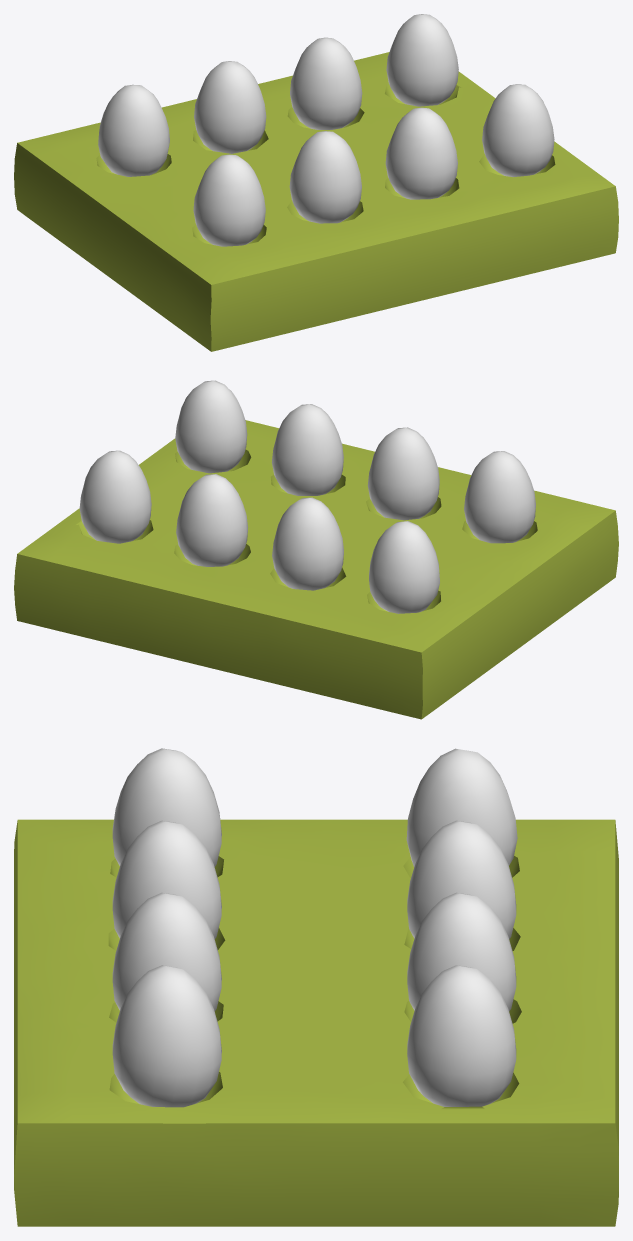
Rendered from Eggs.fbx.
3 renders of one model, top to bottom at view 1: azimuth 30°, elevation 25°; view 2: azimuth 150°, elevation 25°; view 3: azimuth 270°, elevation 25°, orthographic. The views are drawn at different scales.
Parts seen in each view (by area): view 1: Box001, Sphere019; view 2: Box001, Sphere019; view 3: Box001, Sphere019.
Part boxes in pixels (x1,y1,x2,y2): Box001: [14, 52, 618, 351]; Sphere019: [98, 14, 554, 246]; Box001: [14, 420, 618, 719]; Sphere019: [79, 380, 535, 613]; Box001: [14, 819, 618, 1226]; Sphere019: [112, 748, 517, 1107].
Size of the model in its own units: 6 by 2.06 by 5.
